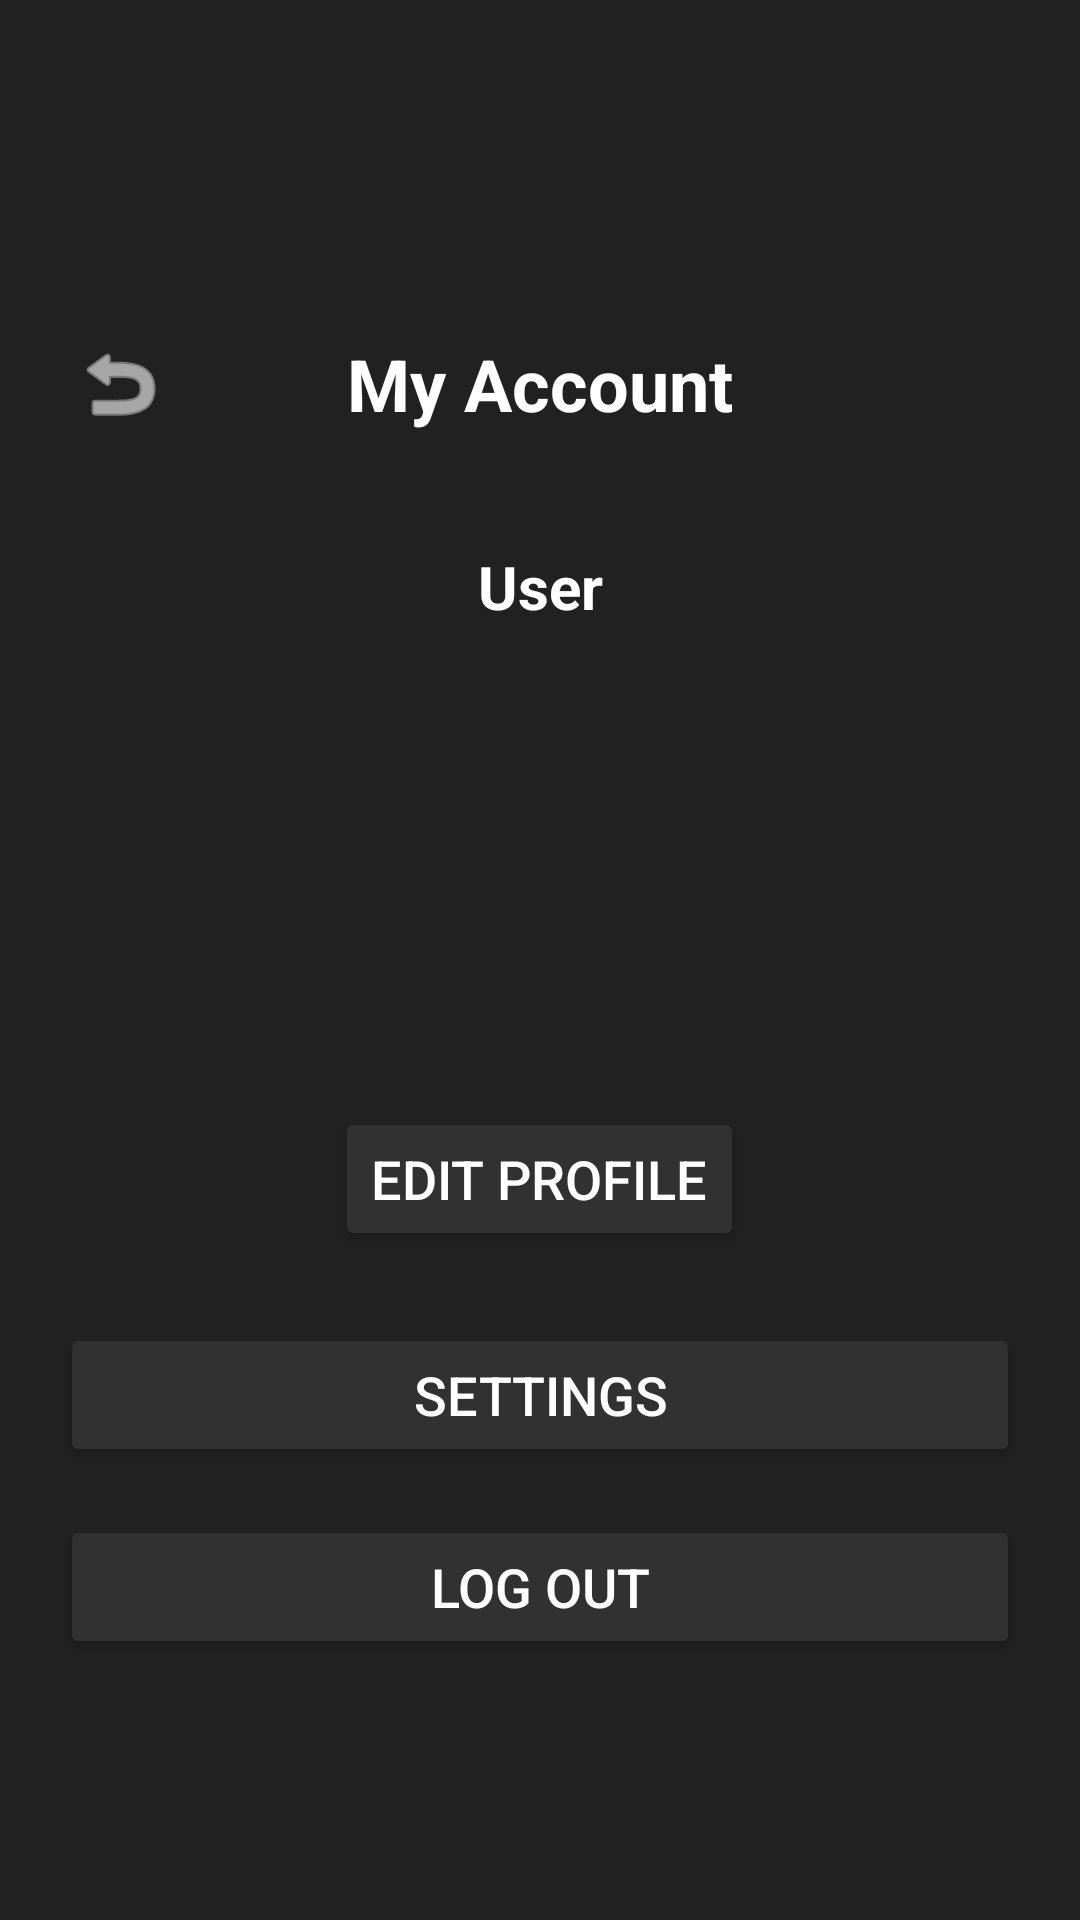

Where to tap for icons on this 1080 × 1920 app screen, as point (x, y):
Back: point (121, 384)
